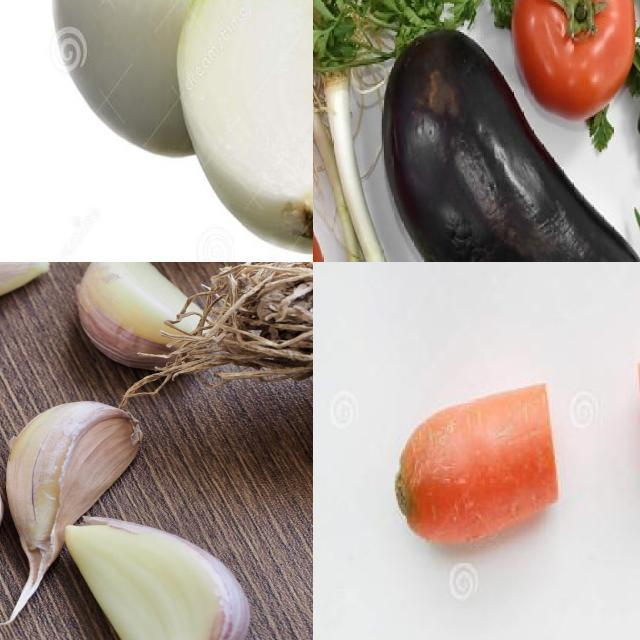carrot: (396, 379, 562, 553)
eggplant: (386, 28, 640, 263)
garlic: (68, 522, 258, 640), (12, 393, 144, 554), (74, 263, 222, 373)
onion: (53, 1, 307, 157), (180, 1, 314, 253)
tomato: (521, 1, 635, 118)
